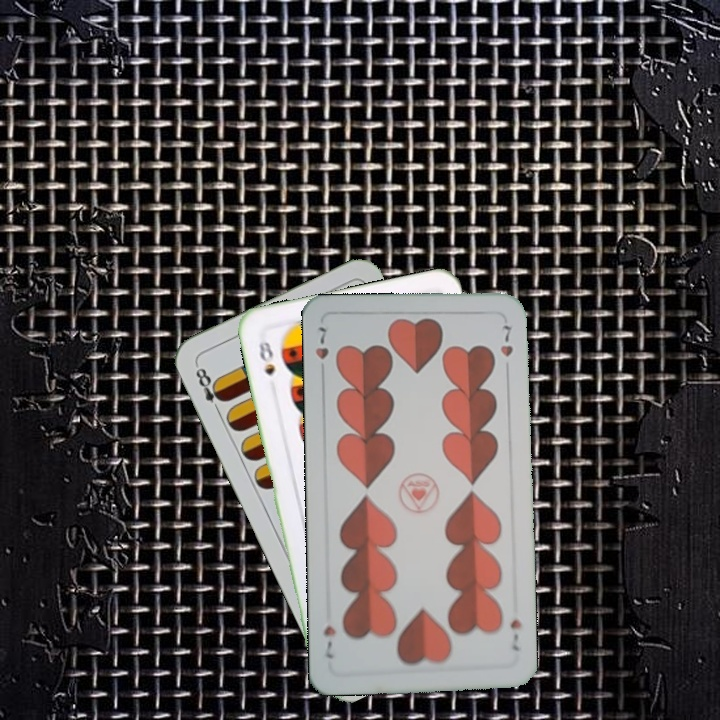E8: (191, 360, 228, 416)
H7: (311, 323, 331, 379), (506, 615, 524, 653)
S8: (254, 337, 278, 378)
